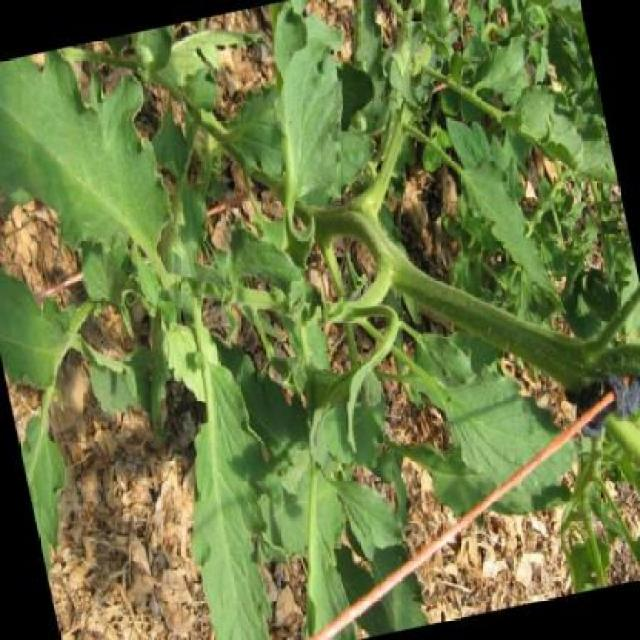Healthy Leaf: (0, 34, 183, 320), (151, 351, 314, 640), (382, 306, 589, 519), (264, 417, 414, 640), (438, 95, 570, 320), (241, 23, 374, 228), (72, 322, 170, 429)
